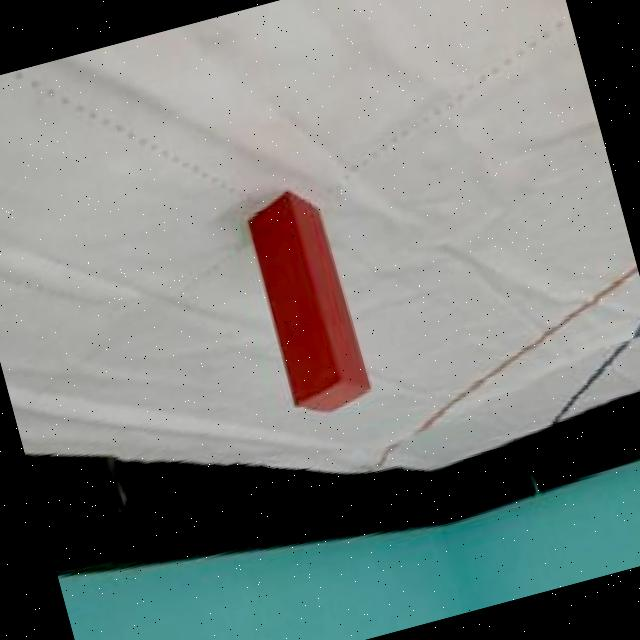redbox: (240, 182, 374, 422)
